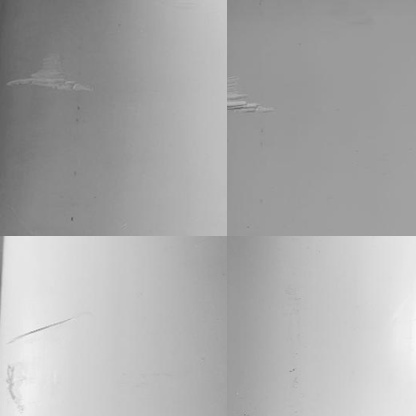sunshang: (8, 43, 96, 100), (4, 355, 76, 412), (229, 70, 276, 118), (10, 313, 74, 341)
